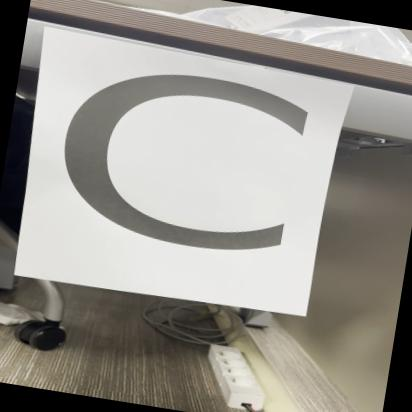seat: (12, 27, 347, 316)
